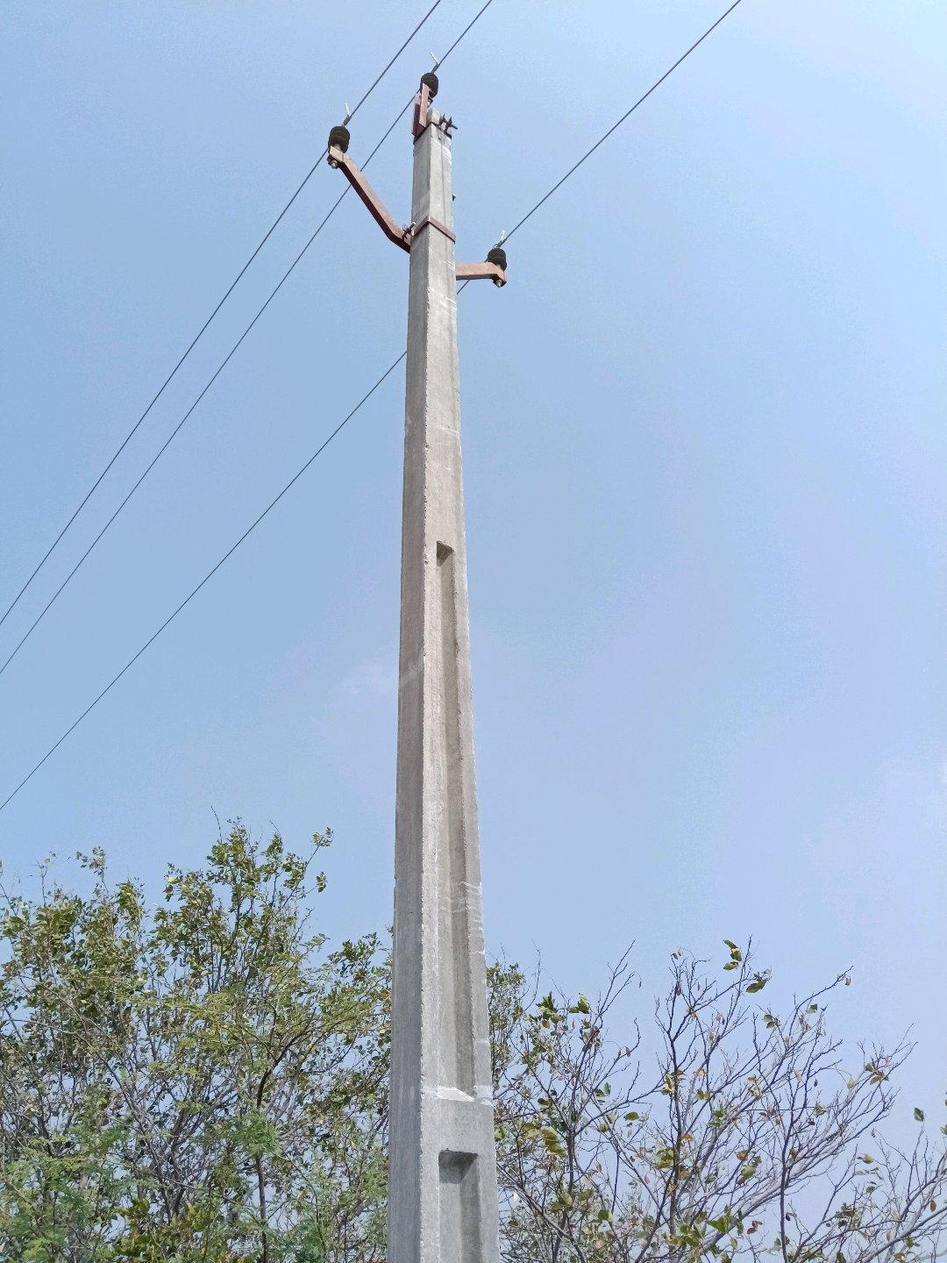{"0" "insulator", "1" "pole", "2" "crossarm", "3" "conductor", "4" "street_: (326, 72, 508, 1262)
